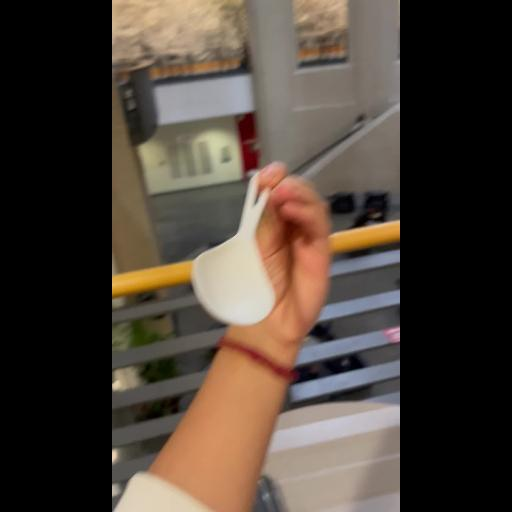utensil: (185, 148, 293, 336)
